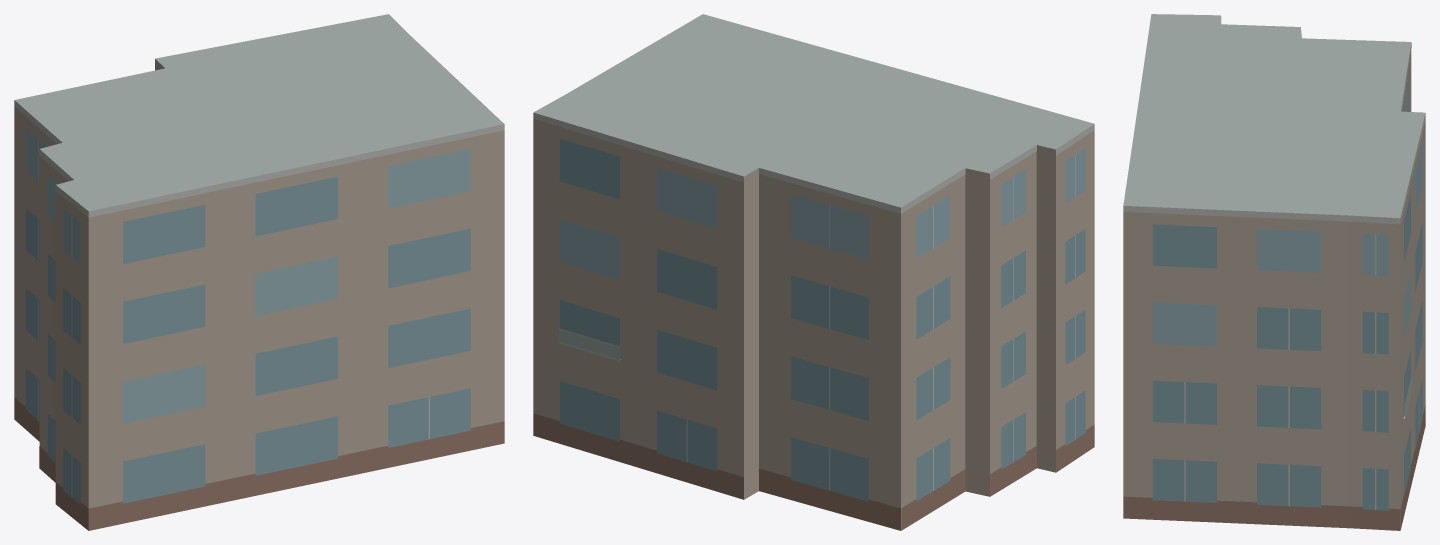
File: survey-upis-32763746.glb
3 views of the same model, side by side, from view 1: azimuth 30°, elevation 25°; view 2: azimuth 150°, elevation 25°; view 3: azimuth 270°, elevation 25° (orthographic). The views are drawn at different scales.
Parts seen in each view (by area): view 1: survey-upis-32763746.tmp; view 2: survey-upis-32763746.tmp; view 3: survey-upis-32763746.tmp.
Boxes of the visible parts, bbox=[...] form: survey-upis-32763746.tmp: bbox=[14, 14, 504, 530]; survey-upis-32763746.tmp: bbox=[533, 14, 1094, 530]; survey-upis-32763746.tmp: bbox=[1123, 14, 1425, 530].
Size of the model in its own units: 17.52 by 12.5 by 10.97.
